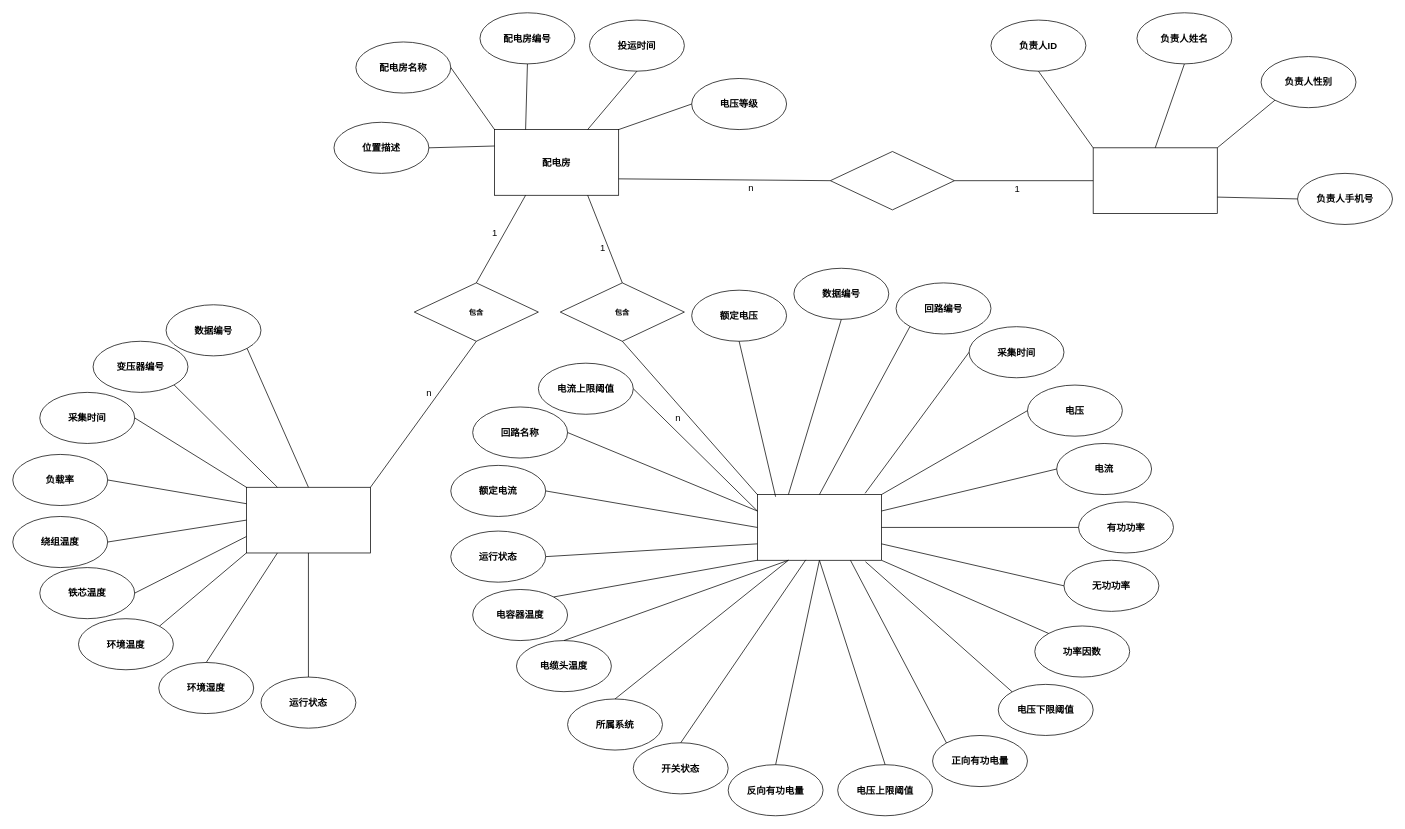
This 1405x829 diagram has some shape labels left out. Here are the shapes that lost their labels. From the top down, the centre of each, then its label:
At (x=892, y=180): "负责".
At (x=1154, y=180): "负责人".
At (x=308, y=520): "变压器".
At (x=819, y=527): "回路".
